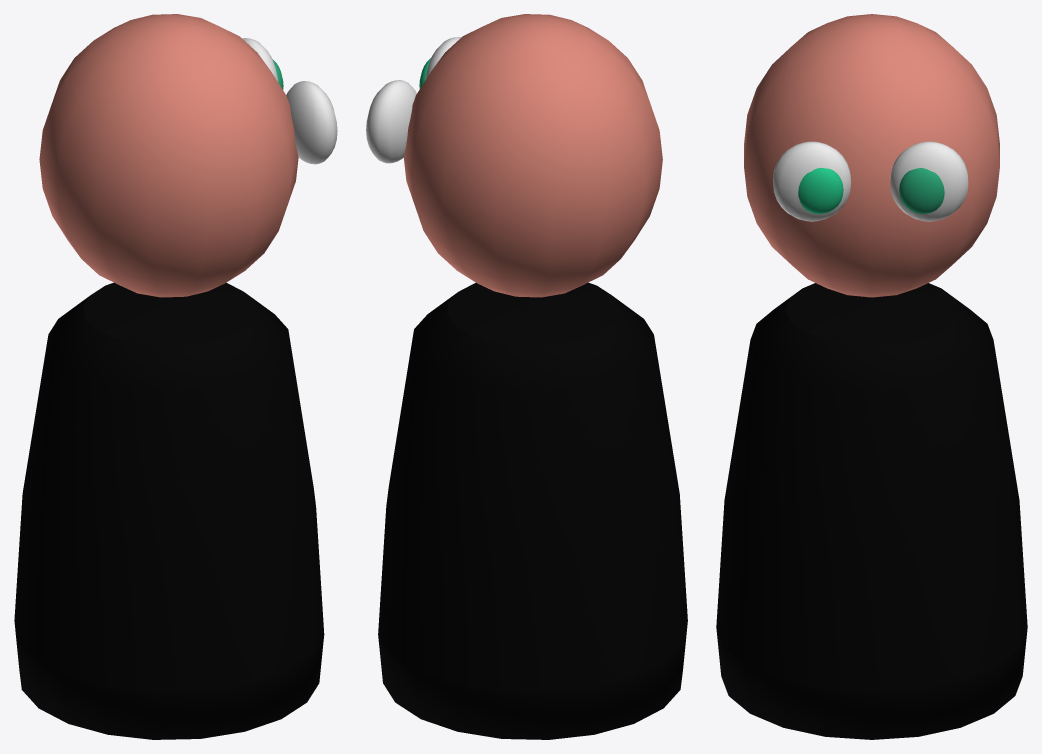
File: perso_non_rig.fbx
3 views of the same model, side by side, from view 1: azimuth 30°, elevation 25°; view 2: azimuth 150°, elevation 25°; view 3: azimuth 270°, elevation 25° (orthographic).
Visible parts, largest first — view 1: pCylinder1, pSphere1, pSphere2; view 2: pCylinder1, pSphere1, pSphere2; view 3: pCylinder1, pSphere1, pSphere2, pSphere2.001.
Part boxes in pixels (x1,y1,x2,y2): pCylinder1: [14, 282, 324, 739]; pSphere1: [39, 14, 298, 297]; pSphere2: [242, 38, 337, 164]; pCylinder1: [378, 282, 687, 739]; pSphere1: [403, 14, 662, 297]; pSphere2: [366, 37, 460, 163]; pCylinder1: [716, 283, 1027, 739]; pSphere1: [744, 14, 999, 297]; pSphere2: [773, 141, 968, 221]; pSphere2.001: [798, 167, 944, 214].
Size of the model in its own units: 995 by 2298 by 995.
